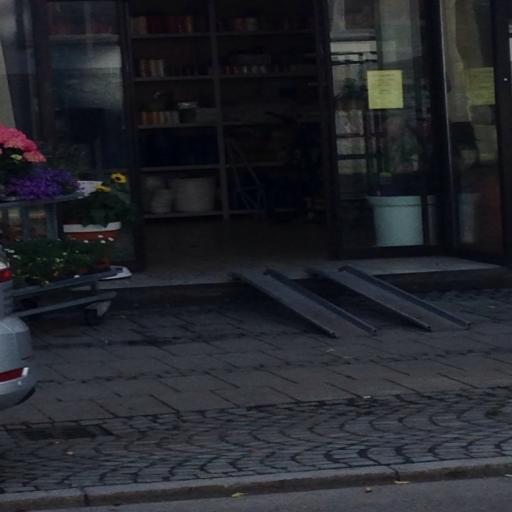ramp: (231, 269, 470, 338)
